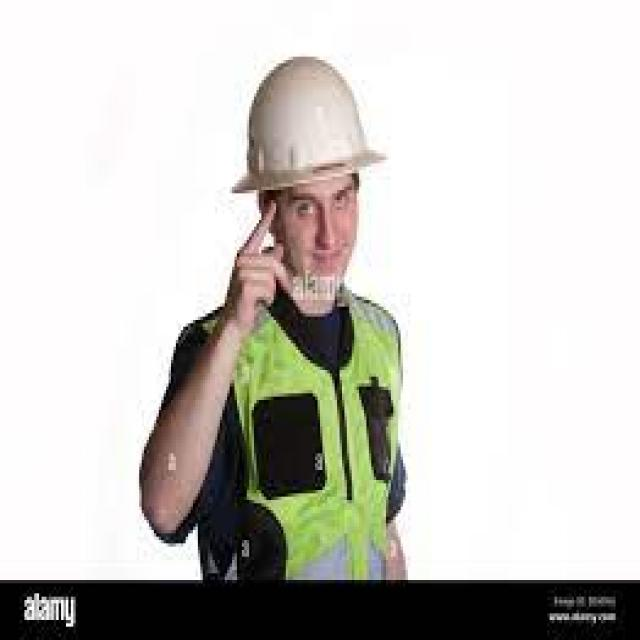Reflective-Jacket: (198, 297, 413, 583)
Safety-Helmet: (228, 46, 388, 206)
